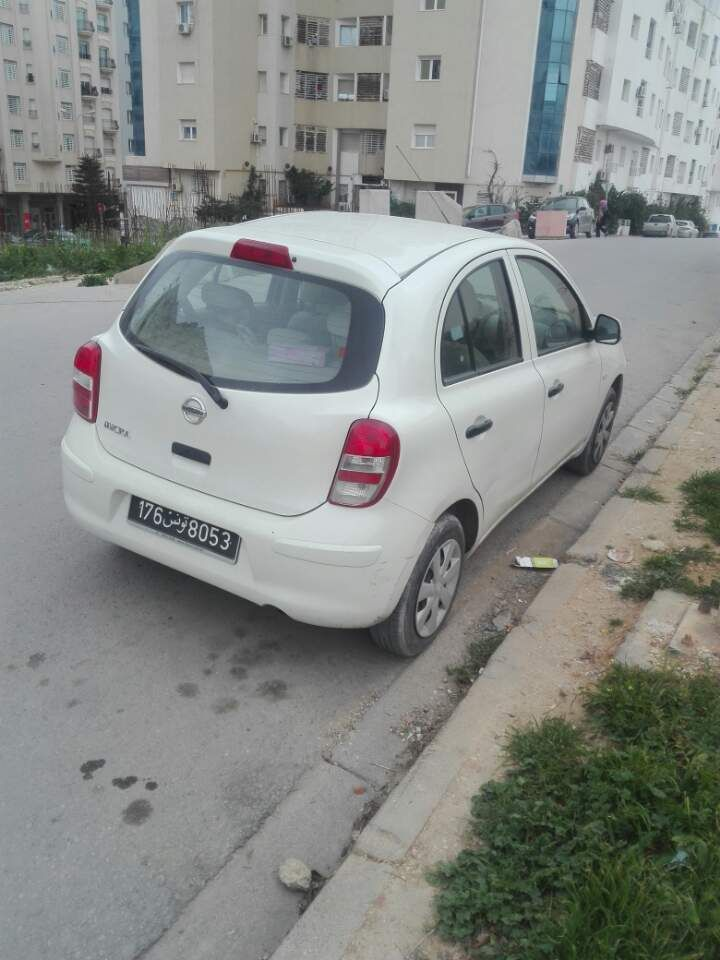LP: (130, 492, 241, 559)
